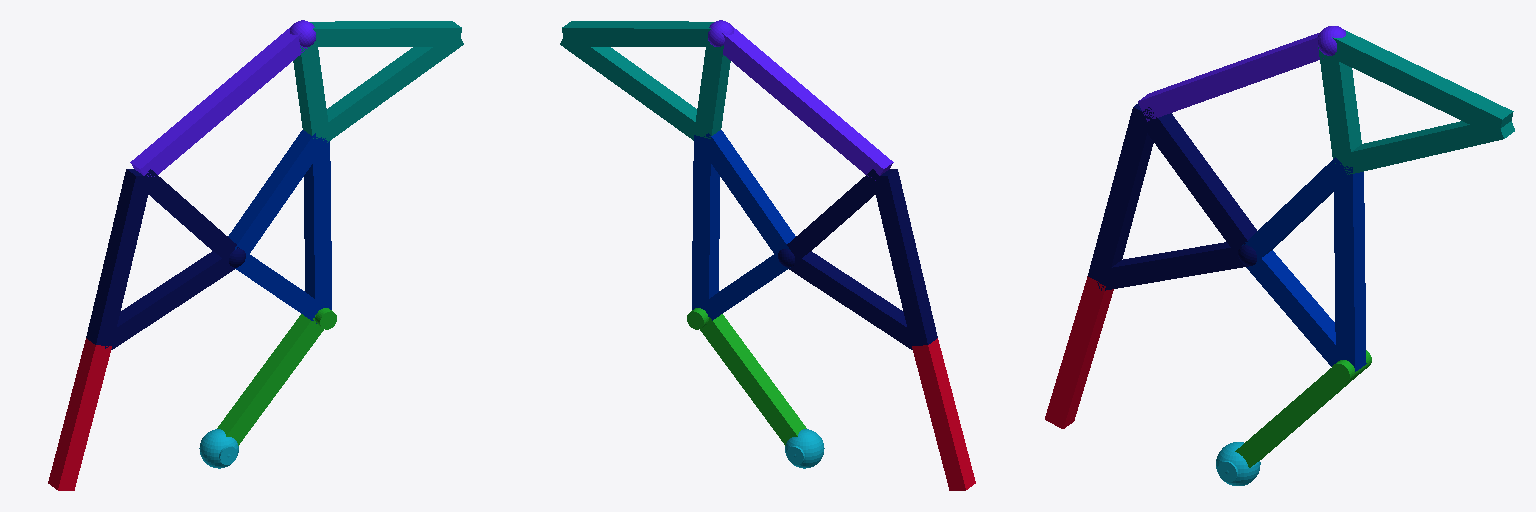
URDF robot description (Robot):
<?xml version="1.0"?>
<robot  name="Robot" >
 <link  name="G" >
  <visual >
   <origin  rpy="0.0 0.0 0.0"  xyz="0.0 0.0 0.0" />
   <geometry >
    <sphere  radius="0.02" />
   </geometry>
   <material name="G_">
    <color  rgba="0.0954734058300698 0.6863410020852343 0.8024111207497548 0.7" />
   </material>
  </visual>
  <collision  name="G_collision" >
   <origin  rpy="0.0 0.0 0.0"  xyz="0.0 0.0 0.0" />
   <geometry >
    <sphere  radius="0.02" />
   </geometry>
  </collision>
  <inertial >
   <origin  rpy="0.0 0.0 0.0"  xyz="0.0 0.0 0.0" />
   <mass  value="0.09047786842338605" />
   <inertia  iyy="1.447645894774177e-05"  ixy="0.0"  iyz="0.0"  izz="1.447645894774177e-05"  ixx="1.447645894774177e-05"  ixz="0.0" />
  </inertial>
 </link>
 <link  name="L3" >
  <visual >
   <origin  rpy="0.0 0.0 0.0"  xyz="-0.0 0.0 0.08505" />
   <geometry >
    <box  size="0.02 0.02 0.17009106226542423" />
   </geometry>
   <material name="L3_" >
    <color  rgba="0.13379381071996344 0.682614603861126 0.187152451877447 0.7" />
   </material>
  </visual>
  <collision  name="L3_collision" >
   <origin  rpy="0.0 0.0 0.0"  xyz="-0.0 0.0 0.08505" />
   <geometry >
    <box  size="0.02 0.02 0.17009106226542423" />
   </geometry>
  </collision>
  <inertial >
   <origin  rpy="0.0 0.0 0.0"  xyz="-0.0 0.0 0.08505" />
   <mass  value="0.18369834724665818" />
   <inertia  iyy="0.0004490042177848521"  ixy="0.0"  iyz="0.0"  izz="1.2246556483110546e-05"  ixx="0.0004490042177848521"  ixz="0.0" />
  </inertial>
 </link>
 <link  name="L4" >
  <visual >
   <origin  rpy="0.0 3.9968028886505635e-15 0.0"  xyz="-6.522560269672795e-16 0.0 0.10074578964399047" />
   <geometry >
    <box  size="0.02 0.02 0.20149157928798095" />
   </geometry>
   <material name="L4_0_">
    <color  rgba="0.002729469653218519 0.21214175388818712 0.6494953943440573 0.7" />
   </material>
  </visual>
  <collision  name="L4_0collision" >
   <origin  rpy="0.0 3.9968028886505635e-15 0.0"  xyz="-6.522560269672795e-16 0.0 0.10074578964399047" />
   <geometry >
    <box  size="0.02 0.02 0.20149157928798095" />
   </geometry>
  </collision>
  <visual >
   <origin  rpy="-3.141592653589793 -0.7330038377215442 3.141592653589793"  xyz="-0.04995018574532388 0.0 0.14601243464203995" />
   <geometry >
    <box  size="0.02 0.02 0.14930447477068423" />
   </geometry>
   <material name="L4_1_">
    <color  rgba="0.002729469653218519 0.21214175388818712 0.6494953943440573 0.7" />
   </material>
  </visual>
  <collision  name="L4_1collision" >
   <origin  rpy="-3.141592653589793 -0.7330038377215442 3.141592653589793"  xyz="-0.04995018574532388 0.0 0.14601243464203995" />
   <geometry >
    <box  size="0.02 0.02 0.14930447477068423" />
   </geometry>
  </collision>
  <visual >
   <origin  rpy="0.0 -0.8345467114834904 0.0"  xyz="-0.04995018574532323 0.0 0.04526664499804948" />
   <geometry >
    <box  size="0.02 0.02 0.13481973454018858" />
   </geometry>
   <material  name="Grey" >
    <color  rgba="0.002729469653218519 0.21214175388818712 0.6494953943440573 0.7" />
   </material>
  </visual>
  <collision  name="L4_2collision" >
   <origin  rpy="0.0 -0.8345467114834904 0.0"  xyz="-0.04995018574532323 0.0 0.04526664499804948" />
   <geometry >
    <box  size="0.02 0.02 0.13481973454018858" />
   </geometry>
  </collision>
  <inertial >
   <origin  rpy="0.0 0.0 0.0"  xyz="-0.0333 0.0 0.09734" />
   <mass  value="0.5434852578238679" />
   <inertia  iyy="0.0012238539751903456"  ixy="-2.3822801641527197e-21"  iyz="0.0"  izz="0.0003194511001340029"  ixx="0.0009406352255779352"  ixz="-3.0804518113879015e-05" />
  </inertial>
 </link>
 <link  name="EE" >
  <visual >
   <origin  rpy="0.0 -1.2846999394537875 0.0"  xyz="-0.05532615236569652 0.0 0.01627509956849034" />
   <geometry >
    <box  size="0.02 0.02 0.11534057398082494" />
   </geometry>
   <material  name="Grey" >
    <color  rgba="0.030517297167252155 0.5492296900372909 0.5292564916721271 0.7" />
   </material>
  </visual>
  <collision  name="EE_0collision" >
   <origin  rpy="0.0 -1.2846999394537875 0.0"  xyz="-0.05532615236569652 0.0 0.01627509956849034" />
   <geometry >
    <box  size="0.02 0.02 0.11534057398082494" />
   </geometry>
  </collision>
  <visual >
   <origin  rpy="0.0 0.0 0.0"  xyz="-2.7755575615628914e-17 0.0 0.08908449652431631" />
   <geometry >
    <box  size="0.02 0.02 0.17816899304863262" />
   </geometry>
   <material  name="Grey" >
    <color  rgba="0.030517297167252155 0.5492296900372909 0.5292564916721271 0.7" />
   </material>
  </visual>
  <collision  name="EE_1collision" >
   <origin  rpy="0.0 0.0 0.0"  xyz="-2.7755575615628914e-17 0.0 0.08908449652431631" />
   <geometry >
    <box  size="0.02 0.02 0.17816899304863262" />
   </geometry>
  </collision>
  <visual >
   <origin  rpy="0.0 0.6497921842703738 0.0"  xyz="-0.05532615236569652 0.0 0.10535959609280665" />
   <geometry >
    <box  size="0.02 0.02 0.18289003713339122" />
   </geometry>
   <material  name="Grey" >
    <color  rgba="0.030517297167252155 0.5492296900372909 0.5292564916721271 0.7" />
   </material>
  </visual>
  <collision  name="EE_2collision" >
   <origin  rpy="0.0 0.6497921842703738 0.0"  xyz="-0.05532615236569652 0.0 0.10535959609280665" />
   <geometry >
    <box  size="0.02 0.02 0.18289003713339122" />
   </geometry>
  </collision>
  <inertial >
   <origin  rpy="0.0 0.0 0.0"  xyz="-0.03688 0.0 0.07024" />
   <mass  value="0.5322998622375738" />
   <inertia  iyy="0.0011606562566164776"  ixy="-2.3822801641527197e-21"  iyz="0.0"  izz="0.0003798235380043869"  ixx="0.0008163193760945958"  ixz="-0.00018499343359396807" />
  </inertial>
 </link>
 <link  name="L7" >
  <visual >
   <origin  rpy="0.0 0.0 0.0"  xyz="0.0 0.0 0.07909" />
   <geometry >
    <box  size="0.02 0.02 0.15818269265163623" />
   </geometry>
   <material  name="Grey" >
    <color  rgba="0.8131390989523208 0.032618147700333555 0.18467411937387623 0.7" />
   </material>
  </visual>
  <collision  name="L7_collision" >
   <origin  rpy="0.0 0.0 0.0"  xyz="0.0 0.0 0.07909" />
   <geometry >
    <box  size="0.02 0.02 0.15818269265163623" />
   </geometry>
  </collision>
  <inertial >
   <origin  rpy="0.0 0.0 0.0"  xyz="0.0 0.0 0.07909" />
   <mass  value="0.17083730806376712" />
   <inertia  iyy="0.00036191548095618664"  ixy="0.0"  iyz="0.0"  izz="1.1389153870917808e-05"  ixx="0.00036191548095618664"  ixz="0.0" />
  </inertial>
 </link>
 <link  name="L5" >
  <visual >
   <origin  rpy="0.0 0.9372251978037345 0.0"  xyz="0.06739366594956714 0.0 0.049507292791440886" />
   <geometry >
    <box  size="0.02 0.02 0.16724686244781156" />
   </geometry>
   <material  name="Grey" >
    <color  rgba="0.057848240900274295 0.08733543179576186 0.37535930635435677 0.7" />
   </material>
  </visual>
  <collision  name="L5_0collision" >
   <origin  rpy="0.0 0.9372251978037345 0.0"  xyz="0.06739366594956714 0.0 0.049507292791440886" />
   <geometry >
    <box  size="0.02 0.02 0.16724686244781156" />
   </geometry>
  </collision>
  <visual >
   <origin  rpy="0.0 0.0 0.0"  xyz="-2.7755575615628914e-17 0.0 0.09209051063036233" />
   <geometry >
    <box  size="0.02 0.02 0.18418102126072466" />
   </geometry>
   <material  name="Grey" >
    <color  rgba="0.057848240900274295 0.08733543179576186 0.37535930635435677 0.7" />
   </material>
  </visual>
  <collision  name="L5_1collision" >
   <origin  rpy="0.0 0.0 0.0"  xyz="-2.7755575615628914e-17 0.0 0.09209051063036233" />
   <geometry >
    <box  size="0.02 0.02 0.18418102126072466" />
   </geometry>
  </collision>
  <visual >
   <origin  rpy="0.0 -1.0072807061778266 0.0"  xyz="0.06739366594956711 0.0 0.14159780342180323" />
   <geometry >
    <box  size="0.02 0.02 0.15943947631172006" />
   </geometry>
   <material  name="Grey" >
    <color  rgba="0.057848240900274295 0.08733543179576186 0.37535930635435677 0.7" />
   </material>
  </visual>
  <collision  name="L5_2collision" >
   <origin  rpy="0.0 -1.0072807061778266 0.0"  xyz="0.06739366594956711 0.0 0.14159780342180323" />
   <geometry >
    <box  size="0.02 0.02 0.15943947631172006" />
   </geometry>
  </collision>
  <inertial >
   <origin  rpy="0.0 0.0 0.0"  xyz="0.04493 0.0 0.0944" />
   <mass  value="0.6702822479391518" />
   <inertia  iyy="0.0016257157520202065"  ixy="4.7645603283054394e-21"  iyz="0.0"  izz="0.0006988669875613168"  ixx="0.0009715342476548335"  ixz="-3.47533008795298e-05" />
  </inertial>
 </link>
 <link  name="L6" >
  <visual >
   <origin  rpy="0.0 0.0 0.0"  xyz="-0.0 0.0 0.11013" />
   <geometry >
    <box  size="0.02 0.02 0.22026245267476668" />
   </geometry>
   <material  name="Grey" >
    <color  rgba="0.36746002221645724 0.16067203637069882 0.9699104142487472 0.7" />
   </material>
  </visual>
  <collision  name="L6_collision" >
   <origin  rpy="0.0 0.0 0.0"  xyz="-0.0 0.0 0.11013" />
   <geometry >
    <box  size="0.02 0.02 0.22026245267476668" />
   </geometry>
  </collision>
  <inertial >
   <origin  rpy="0.0 0.0 0.0"  xyz="-0.0 0.0 0.11013" />
   <mass  value="0.23788344888874804" />
   <inertia  iyy="0.0009696832730327181"  ixy="0.0"  iyz="0.0"  izz="1.5858896592583204e-05"  ixx="0.0009696832730327181"  ixz="0.0" />
  </inertial>
 </link>
 <joint  name="Gabs"  type="revolute" >
  <parent  link="G" />
  <child  link="L3" />
  <origin  rpy="0.0 0.7547270559595018 0.0"  xyz="0.0 0.0 0.0" />
  <axis  xyz="0 1 0" />
  <limit  upper="3.141592653589793"  velocity="17.907078125461823"  lower="-3.141592653589793"  effort="5.3999999999999995" />
  <dynamics  damping="0.05"  friction="0" />
 </joint>
 <joint  name="Gabs_G_WeldActuator"  type="fixed" >
  <parent  link="G" />
  <child  link="Gabs_GActuator" />
  <origin  rpy="1.5707963267948966 0.7547270559595018 1.1102230246251565e-16"  xyz="0.0 0.0 0.0" />
 </joint>
 <link  name="Gabs_GActuator" >
  <visual >
   <geometry >
    <cylinder  radius="0.01"  length="0.0395" />
   </geometry>
   <material  name="Grey" >
    <color  rgba="0.0954734058300698 0.6863410020852343 0.8024111207497548 0.7" />
   </material>
  </visual>
 </link>
 <joint  name="J1m"  type="revolute" >
  <parent  link="L3" />
  <child  link="L4" />
  <origin  rpy="0.0 -0.767884191432251 0.0"  xyz="-4.0807089294978096e-18 0.0 0.1700910622654242" />
  <axis  xyz="0 1 0" />
  <limit  upper="3.141592653589793"  velocity="17.907078125461823"  lower="-3.141592653589793"  effort="5.3999999999999995" />
  <dynamics  damping="0.05"  friction="0" />
 </joint>
 <joint  name="J1m_L3_WeldActuator"  type="fixed" >
  <parent  link="L3" />
  <child  link="J1m_L3Actuator" />
  <origin  rpy="1.5707963267948961 -0.7678841914322511 1.1102230246251565e-16"  xyz="-4.0807089294978096e-18 0.0 0.1700910622654242" />
 </joint>
 <link  name="J1m_L3Actuator" >
  <visual >
   <geometry >
    <cylinder  radius="0.01"  length="0.0395" />
   </geometry>
   <material name = "J1m_L3Actuator__">
    <color  rgba="0.13379381071996344 0.682614603861126 0.187152451877447 0.7" />
   </material>
  </visual>
 </link>
 <joint  name="J2m"  type="revolute" >
  <parent  link="L4" />
  <child  link="EE" />
  <origin  rpy="0.0 1.1585038248976036 0.0"  xyz="-1.304512053934559e-15 0.0 0.20149157928798095" />
  <axis  xyz="0 1 0" />
  <limit  upper="3.141592653589793"  velocity="6.283185307179586"  lower="-3.141592653589793"  effort="600.0" />
  <dynamics  damping="0.05"  friction="0" />
 </joint>
 <joint  name="G2"  type="revolute" >
  <parent  link="G" />
  <child  link="L7" />
  <origin  rpy="0.0 0.2851056794268283 0.0"  xyz="-0.18464620786146133 0.0 0.0" />
  <axis  xyz="0 1 0" />
  <limit  upper="3.141592653589793"  velocity="6.283185307179586"  lower="-3.141592653589793"  effort="600.0" />
  <dynamics  damping="0.05"  friction="0" />
 </joint>
 <joint  name="J1b1"  type="revolute" >
  <parent  link="L7" />
  <child  link="L5" />
  <origin  rpy="0.0 -0.026921955112103158 0.0"  xyz="2.7755575615628914e-17 0.0 0.15818269265163623" />
  <axis  xyz="0 1 0" />
  <limit  upper="3.141592653589793"  velocity="6.283185307179586"  lower="-3.141592653589793"  effort="600.0" />
  <dynamics  damping="0.05"  friction="0" />
 </joint>
 <link  name="J2b1_L5Pseudo" >
  <visual >
   <geometry >
    <sphere  radius="0.014285714285714287" />
   </geometry>
   <material  name="Grey" >
    <color  rgba="0.057848240900274295 0.08733543179576186 0.37535930635435677 0.5" />
   </material>
  </visual>
 </link>
 <joint  name="J2b1_L5_revolute"  type="revolute" >
  <parent  link="L5" />
  <child  link="J2b1_L5Pseudo" />
  <origin  rpy="0.0 0.0 0.0"  xyz="0.13478733189913428 0.0 0.09901458558288179" />
  <axis  xyz="0 1 0" />
  <limit  upper="3.141592653589793"  velocity="6.283185307179586"  lower="-3.141592653589793"  effort="600.0" />
  <dynamics  damping="0.05"  friction="0" />
 </joint>
 <joint  name="J2b1_L5_fix"  type="fixed" >
  <parent  link="L4" />
  <child  link="J2b1_L4Pseudo" />
  <origin  rpy="0.0 0.27134085978747424 0.0"  xyz="-0.09990037149064651 0.0 0.09053328999609891" />
 </joint>
 <link  name="J2b1_L4Pseudo" >
  <visual >
   <geometry >
    <sphere  radius="0.014285714285714287" />
   </geometry>
   <material  name="Grey" >
    <color  rgba="0.002729469653218519 0.21214175388818712 0.6494953943440573 0.5" />
   </material>
  </visual>
 </link>
 <joint  name="J1b2"  type="revolute" >
  <parent  link="L5" />
  <child  link="L6" />
  <origin  rpy="0.0 0.7911298922393728 0.0"  xyz="-5.551115123125783e-17 0.0 0.18418102126072466" />
  <axis  xyz="0 1 0" />
  <limit  upper="3.141592653589793"  velocity="6.283185307179586"  lower="-3.141592653589793"  effort="600.0" />
  <dynamics  damping="0.05"  friction="0" />
 </joint>
 <link  name="J2b2_L6Pseudo" >
  <visual >
   <geometry >
    <sphere  radius="0.014285714285714287" />
   </geometry>
   <material  name="Grey" >
    <color  rgba="0.36746002221645724 0.16067203637069882 0.9699104142487472 0.5" />
   </material>
  </visual>
 </link>
 <joint  name="J2b2_L6_revolute"  type="revolute" >
  <parent  link="L6" />
  <child  link="J2b2_L6Pseudo" />
  <origin  rpy="0.0 0.0 0.0"  xyz="0.0 0.0 0.22026245267476663" />
  <axis  xyz="0 1 0" />
  <limit  upper="3.141592653589793"  velocity="6.283185307179586"  lower="-3.141592653589793"  effort="600.0" />
  <dynamics  damping="0.05"  friction="0" />
 </joint>
 <joint  name="J2b2_L6_fix"  type="fixed" >
  <parent  link="EE" />
  <child  link="J2b2_EEPseudo" />
  <origin  rpy="0.0 -0.09603307287075635 0.0"  xyz="-0.110652304731393 0.0 0.032550199136980595" />
 </joint>
 <link  name="J2b2_EEPseudo" >
  <visual >
   <geometry >
    <sphere  radius="0.014285714285714287" />
   </geometry>
   <material  name="Grey" >
    <color  rgba="0.030517297167252155 0.5492296900372909 0.5292564916721271 0.5" />
   </material>
  </visual>
 </link>
</robot>

--- What the picture shows (computed from the rendered views, not written in the file) ---
3 views of the same robot in one strip: view 1: azimuth 30°, elevation 25°; view 2: azimuth 150°, elevation 25°; view 3: azimuth 330°, elevation 25° (orthographic).
Model Robot with 13 links and 12 joints (8 revolute, 4 fixed), rooted at G, posed every joint at zero.
Visible links, largest first — view 1: L5, EE, L4, L6, L7, L3, G; view 2: L5, EE, L4, L6, L7, L3, G; view 3: L5, EE, L4, L6, L7, L3, G, J1m_L3Actuator, J2b2_L6Pseudo.
Link boxes in pixels (x1,y1,x2,y2): L5: (86, 169, 239, 349); EE: (293, 21, 463, 142); L4: (228, 130, 331, 323); L6: (130, 27, 307, 176); L7: (48, 338, 111, 490); L3: (217, 314, 323, 445); G: (199, 429, 238, 468); L5: (787, 169, 937, 349); EE: (560, 21, 730, 140); L4: (692, 130, 795, 320); L6: (722, 27, 893, 180); L7: (912, 338, 975, 490); L3: (700, 314, 806, 445); G: (785, 429, 824, 468); L5: (1088, 103, 1256, 290); EE: (1318, 30, 1514, 174); L4: (1242, 157, 1366, 371); L6: (1138, 33, 1323, 121); L7: (1045, 276, 1113, 428); L3: (1235, 368, 1361, 467); G: (1216, 442, 1260, 485); J1m_L3Actuator: (1331, 350, 1371, 384); J2b2_L6Pseudo: (1318, 26, 1345, 55).
Size in the robot's own frame: 0.4745 by 0.04 by 0.4739 metres.
Geometry: primitives only (box / cylinder / sphere), no mesh files.
